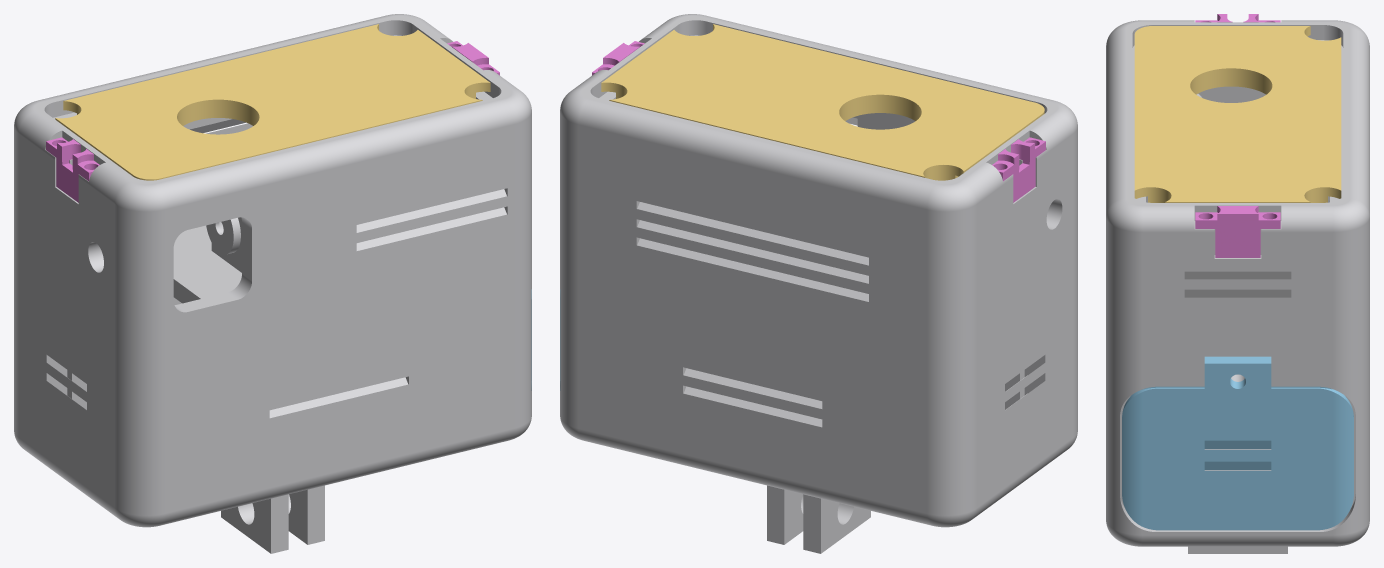
Rendered from anton20_assembled.glb.
The picture shows the model from 3 angles, left to right: view 1: azimuth 30°, elevation 25°; view 2: azimuth 150°, elevation 25°; view 3: azimuth 270°, elevation 25°; orthographic projection.
Visible parts, largest first — view 1: =>[0:1:1:3], =>[0:1:1:5], =>[0:1:1:10]; view 2: =>[0:1:1:3], =>[0:1:1:5], =>[0:1:1:10]; view 3: =>[0:1:1:3], =>[0:1:1:5], =>[0:1:1:4], =>[0:1:1:11], =>[0:1:1:10].
Part boxes in pixels (<box>): =>[0:1:1:3]: <box>14,14,531,553</box>; =>[0:1:1:5]: <box>55,24,490,180</box>; =>[0:1:1:10]: <box>46,137,99,202</box>; =>[0:1:1:3]: <box>560,14,1077,553</box>; =>[0:1:1:5]: <box>601,24,1044,180</box>; =>[0:1:1:10]: <box>992,137,1045,202</box>; =>[0:1:1:3]: <box>1106,20,1369,553</box>; =>[0:1:1:5]: <box>1134,26,1341,202</box>; =>[0:1:1:4]: <box>1122,356,1353,530</box>; =>[0:1:1:11]: <box>1195,206,1280,257</box>; =>[0:1:1:10]: <box>1195,14,1280,22</box>.
Size of the model in its own units: 0.0735 by 0.0705 by 0.0395.
